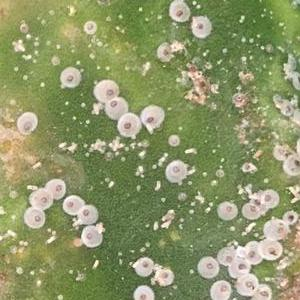Femea: (246, 193, 267, 214), (27, 211, 43, 228), (95, 83, 115, 96), (34, 191, 47, 211), (240, 277, 255, 294), (264, 241, 278, 259), (83, 229, 96, 248), (168, 4, 184, 19), (143, 109, 158, 124), (48, 181, 62, 197), (64, 197, 80, 211), (202, 260, 216, 275), (233, 259, 247, 274), (215, 283, 228, 299), (81, 205, 92, 223), (121, 117, 134, 132), (108, 99, 123, 112), (168, 163, 180, 179), (20, 119, 33, 133), (192, 20, 205, 33), (156, 270, 169, 283), (243, 247, 256, 260), (138, 259, 150, 272), (63, 73, 75, 84), (223, 203, 236, 213), (222, 251, 232, 264), (256, 286, 266, 299), (138, 289, 148, 299)
Linfa: (151, 179, 162, 190), (106, 180, 116, 188), (20, 53, 33, 59), (152, 219, 158, 231), (134, 183, 143, 191), (56, 140, 64, 148), (93, 107, 102, 114), (162, 150, 169, 158), (88, 108, 95, 116), (158, 196, 166, 203), (135, 165, 143, 172), (135, 140, 143, 147), (16, 38, 23, 46), (91, 102, 100, 108), (188, 208, 195, 215), (112, 138, 119, 145), (150, 161, 156, 169), (83, 150, 90, 156), (139, 151, 146, 157), (26, 32, 32, 39), (79, 101, 87, 106), (93, 138, 101, 143), (40, 81, 45, 89), (106, 140, 112, 146), (228, 225, 234, 231), (201, 171, 207, 177), (111, 146, 117, 152), (204, 205, 209, 212), (84, 119, 90, 124), (83, 141, 88, 147), (117, 143, 123, 148), (89, 143, 95, 148)
Macho: (243, 220, 255, 234), (287, 183, 298, 198), (43, 235, 60, 243), (90, 257, 98, 271), (180, 147, 197, 153)
